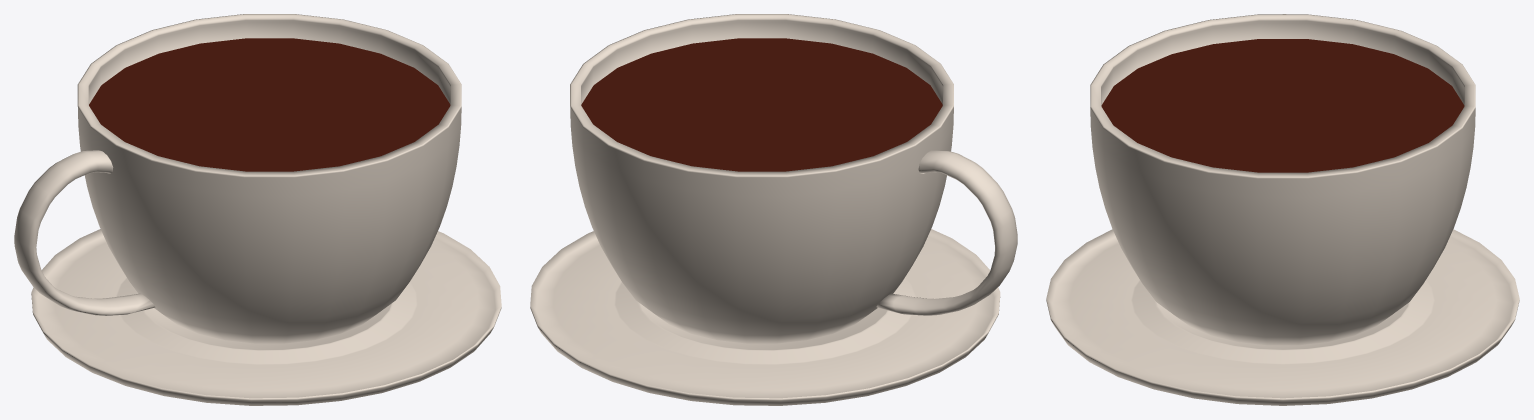
The model's file is Cup coffee.fbx.
3 renders of one model, left to right at view 1: azimuth 30°, elevation 25°; view 2: azimuth 150°, elevation 25°; view 3: azimuth 270°, elevation 25°, orthographic.
Parts seen in each view (by area): view 1: Cup, Plate, Handle; view 2: Cup, Plate, Handle; view 3: Cup, Plate.
Part boxes in pixels (<box>): Cup: <box>77,14,461,343</box>; Plate: <box>31,229,501,405</box>; Handle: <box>14,150,155,315</box>; Cup: <box>570,14,953,343</box>; Plate: <box>530,229,1000,405</box>; Handle: <box>876,150,1017,315</box>; Cup: <box>1090,14,1475,345</box>; Plate: <box>1046,229,1519,405</box>.
Bounding box in the file's own units: 443 × 203 × 400.
